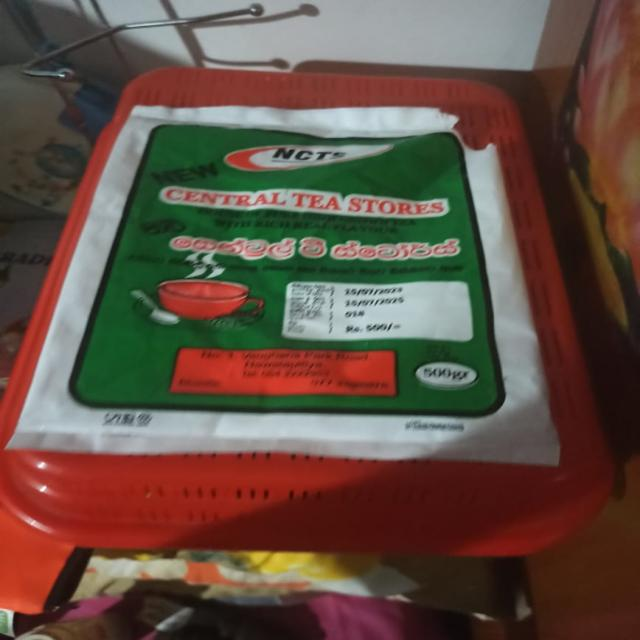Central Tea: (32, 65, 588, 515)
